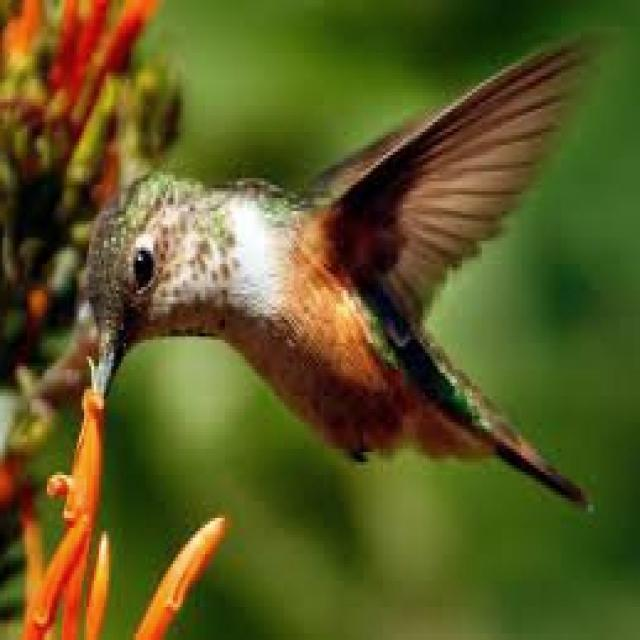hummingbird: (89, 43, 588, 501)
